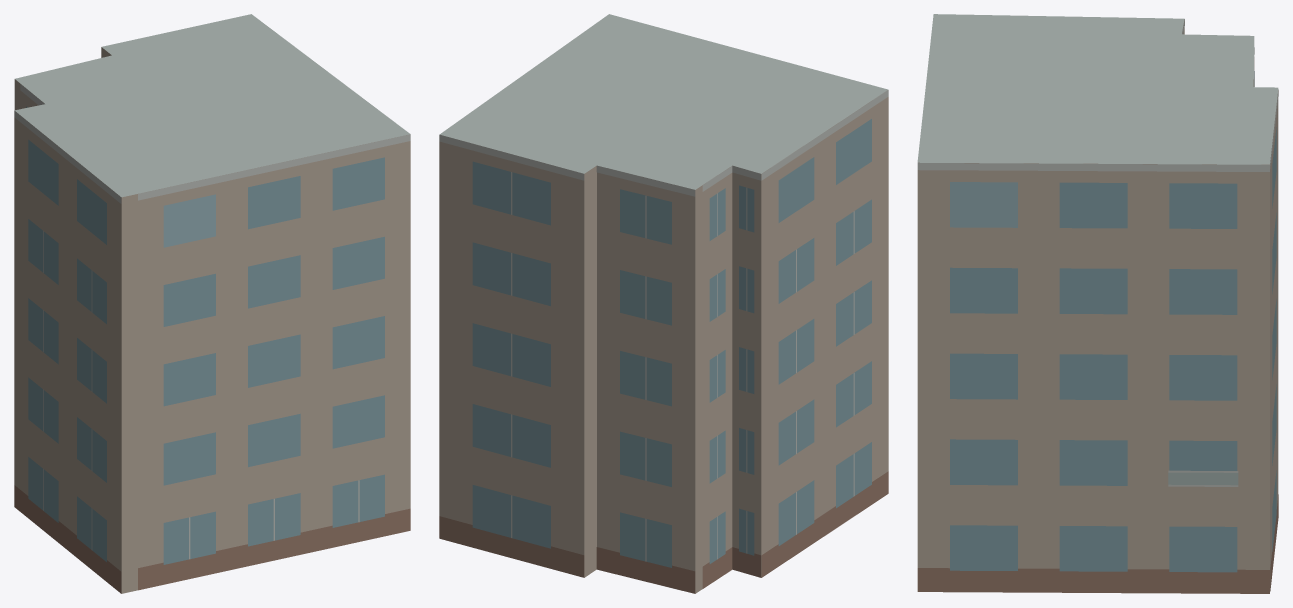
Rendered from survey-upis-32775989.glb.
3 renders of one model, left to right at view 1: azimuth 30°, elevation 25°; view 2: azimuth 150°, elevation 25°; view 3: azimuth 270°, elevation 25°, orthographic. The views are drawn at different scales.
Parts seen in each view (by area): view 1: survey-upis-32775989.tmp; view 2: survey-upis-32775989.tmp; view 3: survey-upis-32775989.tmp.
Boxes of the visible parts, left/top/right/bottom form: survey-upis-32775989.tmp: left=14, top=14, right=410, bottom=593; survey-upis-32775989.tmp: left=439, top=14, right=888, bottom=593; survey-upis-32775989.tmp: left=917, top=14, right=1278, bottom=593.
Size of the model in its own units: 10.73 by 14.2 by 10.84.
